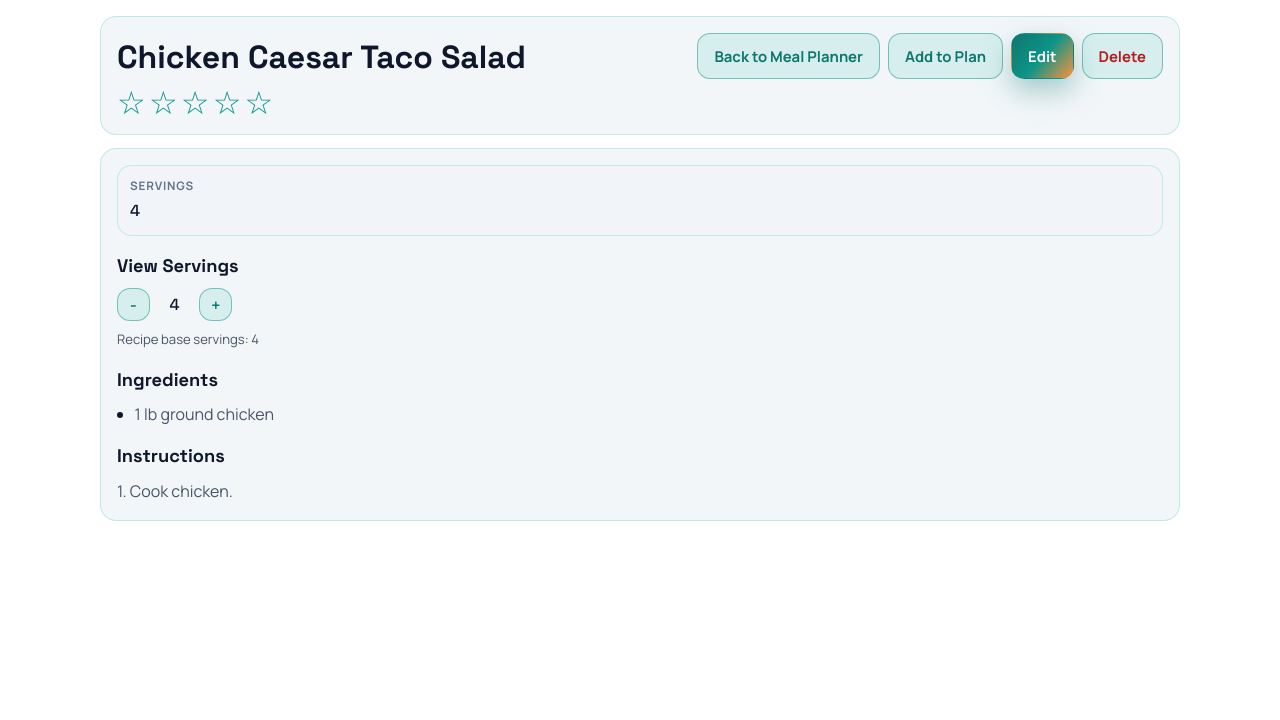
Test case: RecipeDetailPage › preselects the day and meal from an incoming meal slot when adding to plan
The image size is (1280, 720).
Expected: the heading "Chicken Caesar Taco Salad" is shown, [117,33,526,81]
What coordinates should you click on to do the following:
click the button "Add to Plan"
I would click on:
 (946, 56)
Its box is [888,33,1003,79].
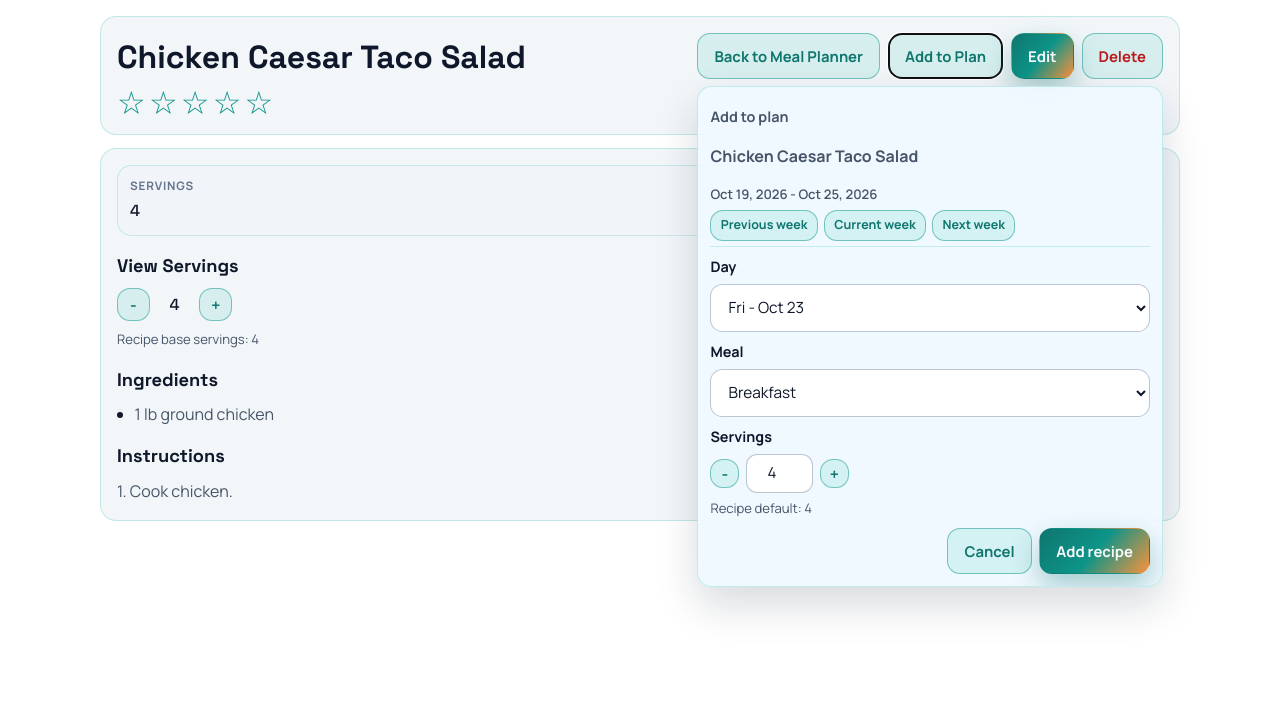
Now the dropdown labelled "Meal" shows "Breakfast", box [710,369,1150,417]
